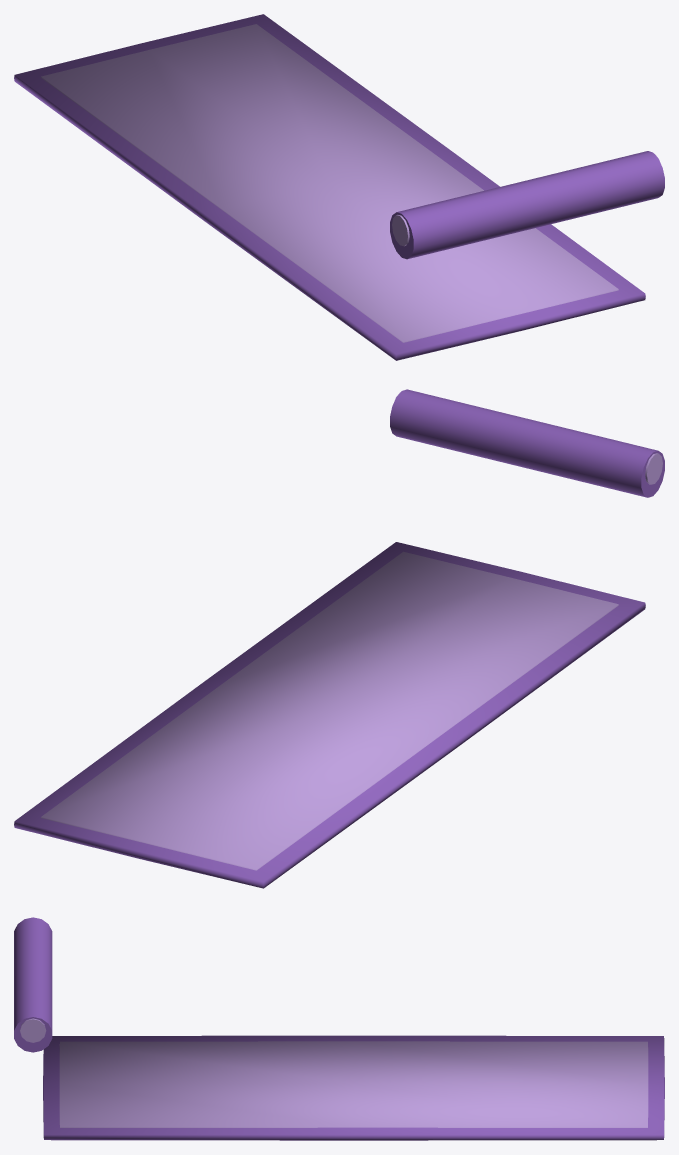
File: yoga_mat.glb
3 renders of one model, top to bottom at view 1: azimuth 30°, elevation 25°; view 2: azimuth 150°, elevation 25°; view 3: azimuth 270°, elevation 25°, orthographic. The views are drawn at different scales.
Parts seen in each view (by area): view 1: root; view 2: root; view 3: root.
Boxes of the visible parts, x1,y1,x2,y2 form: root: [14, 14, 664, 360]; root: [14, 389, 664, 888]; root: [14, 917, 664, 1140].
Bounding box in the file's own units: 0.73 × 0.42 × 1.99.
